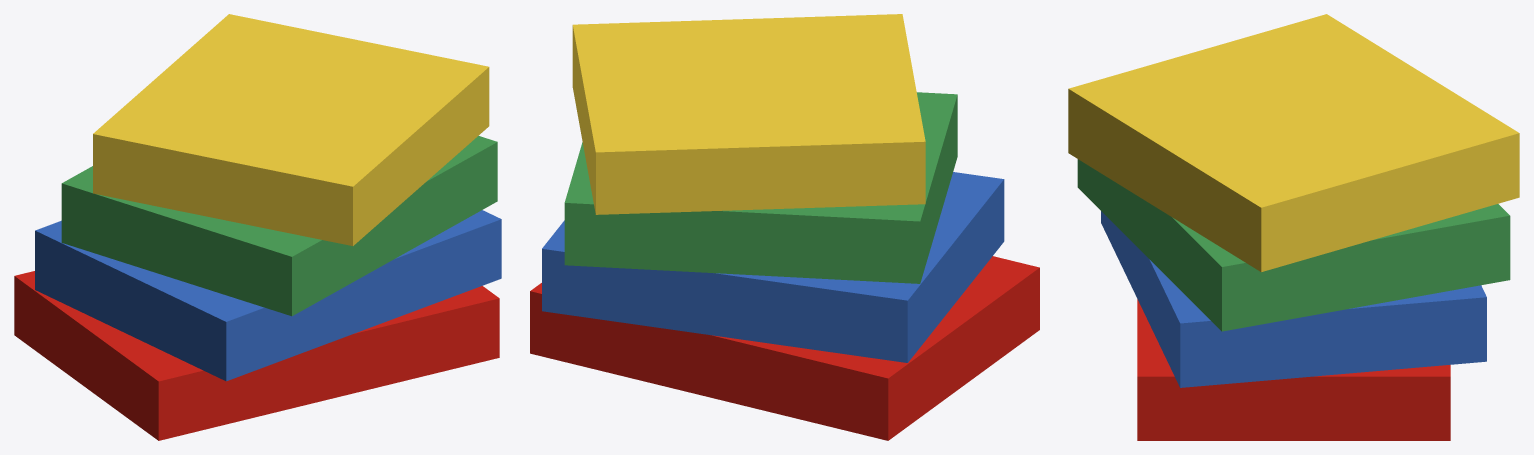
File: books_stack.glb
3 renders of one model, left to right at view 1: azimuth 30°, elevation 25°; view 2: azimuth 150°, elevation 25°; view 3: azimuth 270°, elevation 25°, orthographic. The views are drawn at different scales.
Visible parts, largest first — view 1: books_stack; view 2: books_stack; view 3: books_stack.
Part boxes in pixels (x1=…): books_stack: x1=14, y1=14, x2=501, y2=440; books_stack: x1=530, y1=14, x2=1039, y2=440; books_stack: x1=1068, y1=14, x2=1519, y2=440.
Size of the model in its own units: 0.3412 by 0.2 by 0.3171.
